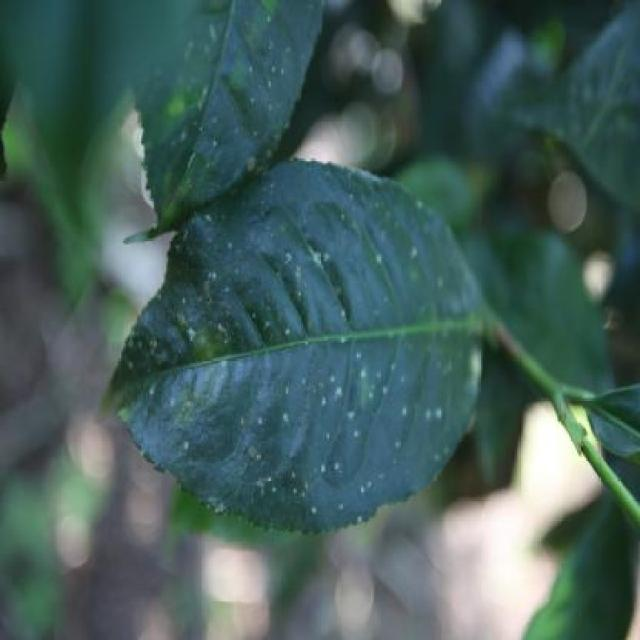White spot of tea: (114, 152, 531, 537)
